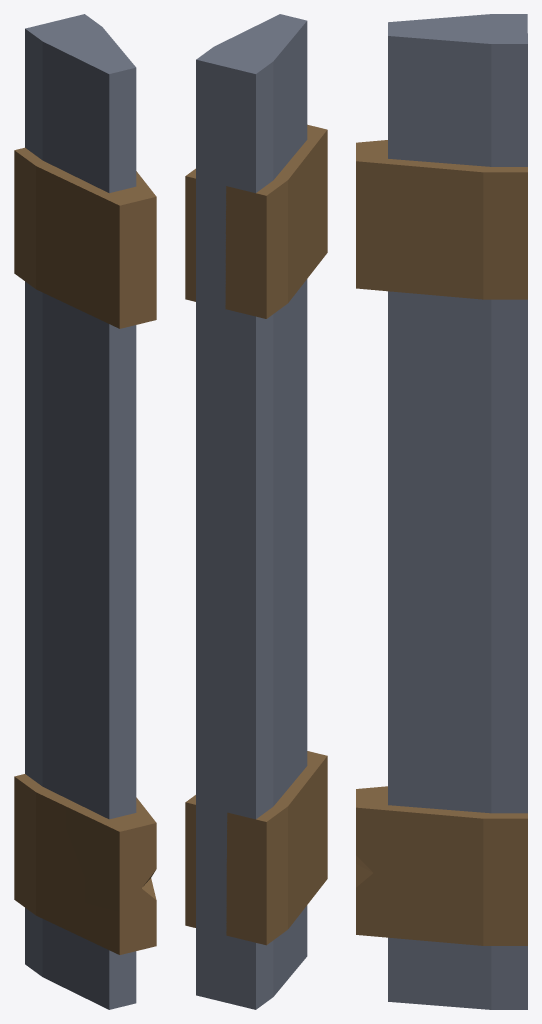
Rendered from Stun00.fbx.
3 renders of one model, left to right at view 1: azimuth 30°, elevation 25°; view 2: azimuth 150°, elevation 25°; view 3: azimuth 270°, elevation 25°, orthographic. The views are drawn at different scales.
Parts seen in each view (by area): view 1: Stun00; view 2: Stun00; view 3: Stun00.
Part boxes in pixels (x1,y1,x2,y2): Stun00: [14, 14, 156, 1009]; Stun00: [185, 14, 327, 1009]; Stun00: [356, 14, 527, 1009].
Bounding box in the file's own units: 12.28 × 135 × 21.83.
